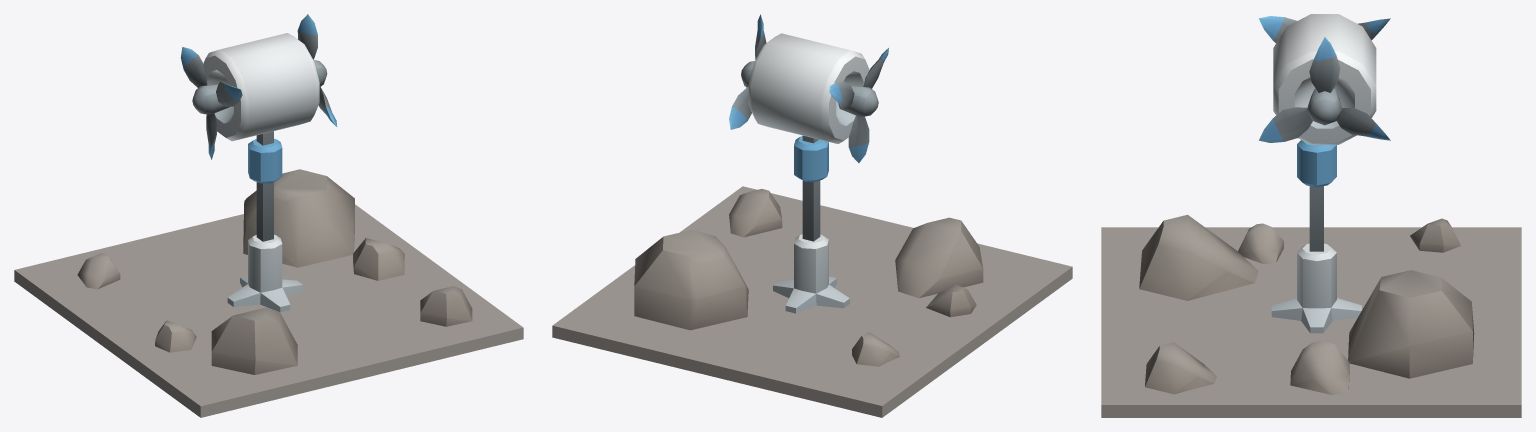
File: windturbine.glb
3 renders of one model, left to right at view 1: azimuth 30°, elevation 25°; view 2: azimuth 150°, elevation 25°; view 3: azimuth 270°, elevation 25°, orthographic. The views are drawn at different scales.
Visible parts, largest first — view 1: Windturbine; view 2: Windturbine; view 3: Windturbine.
Boxes of the visible parts, box(x1,y1,x2,y2) form: Windturbine: box(14, 14, 523, 417); Windturbine: box(552, 14, 1072, 417); Windturbine: box(1101, 14, 1521, 417).
Size of the model in its own units: 0.29 by 0.2414 by 0.29.
1 material, 1 textured.
